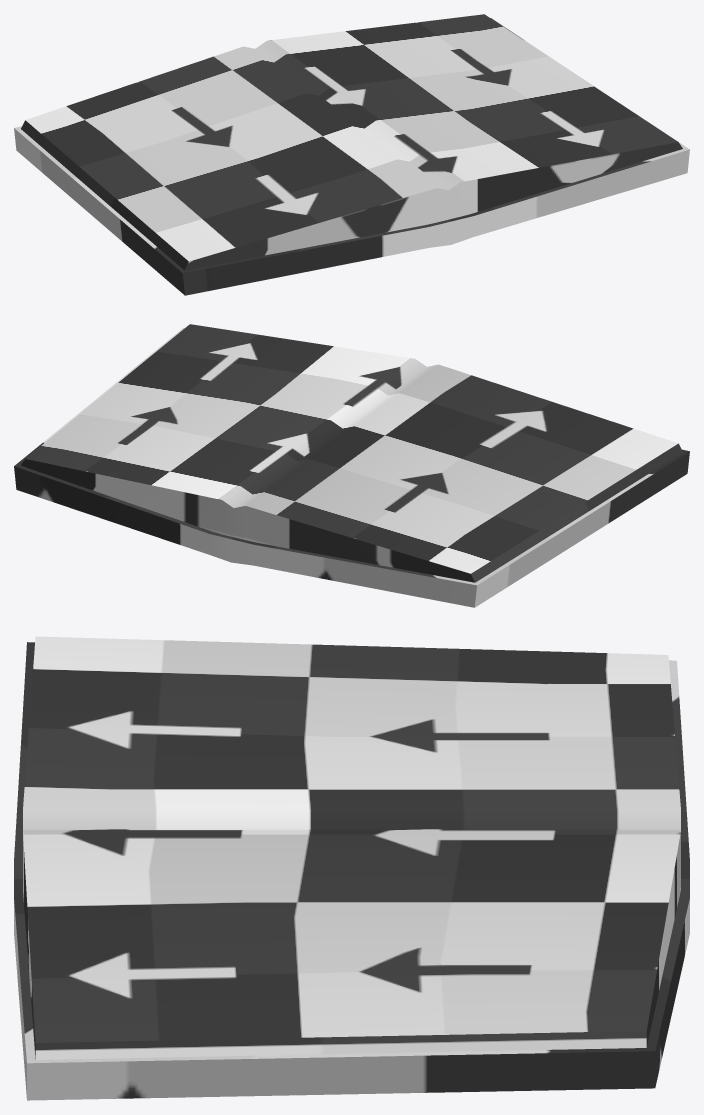
Rendered from SM_CookBook_01.fbx.
The picture shows the model from 3 angles, top to bottom: view 1: azimuth 30°, elevation 25°; view 2: azimuth 150°, elevation 25°; view 3: azimuth 270°, elevation 25°; orthographic projection. The views are drawn at different scales.
Parts seen in each view (by area): view 1: SM_CookBook_01.001; view 2: SM_CookBook_01.001; view 3: SM_CookBook_01.001.
Boxes of the visible parts, left/top/right/bottom form: SM_CookBook_01.001: left=14, top=14, right=689, bottom=295; SM_CookBook_01.001: left=14, top=324, right=689, bottom=607; SM_CookBook_01.001: left=14, top=636, right=689, bottom=1100.
Bounding box in the file's own units: 0.3763 × 0.5547 × 0.0604.
1 material, 1 textured.
